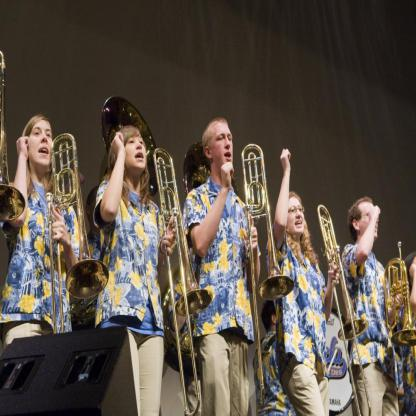face: (30, 119, 55, 168), (212, 126, 234, 168), (125, 130, 147, 170), (287, 198, 305, 235), (360, 203, 378, 239)
